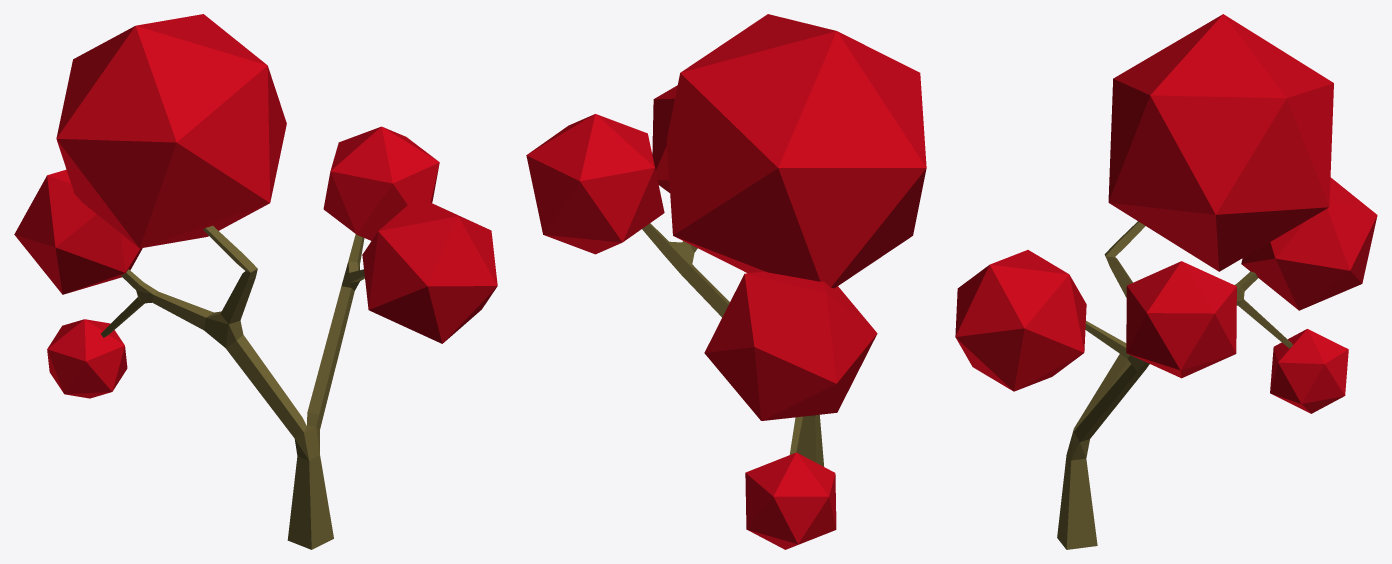
Rendered from PohonWarnaMerah.fbx.
The picture shows the model from 3 angles, left to right: view 1: azimuth 30°, elevation 25°; view 2: azimuth 150°, elevation 25°; view 3: azimuth 270°, elevation 25°; orthographic projection. The views are drawn at different scales.
Parts seen in each view (by area): view 1: Icosphere.010; view 2: Icosphere.010; view 3: Icosphere.010.
Part boxes in pixels (box(x1,y1,x2,y2)): Icosphere.010: box(14, 14, 497, 549); Icosphere.010: box(526, 14, 926, 549); Icosphere.010: box(955, 14, 1377, 549).
Bounding box in the file's own units: 858 × 1126 × 898.
